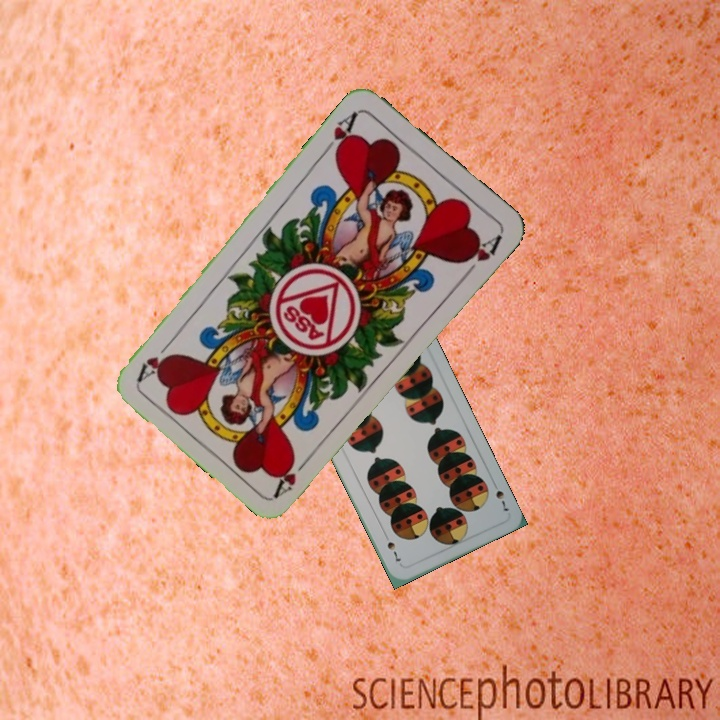HA: (318, 107, 361, 159), (270, 450, 315, 499)
S7: (488, 477, 512, 514)
